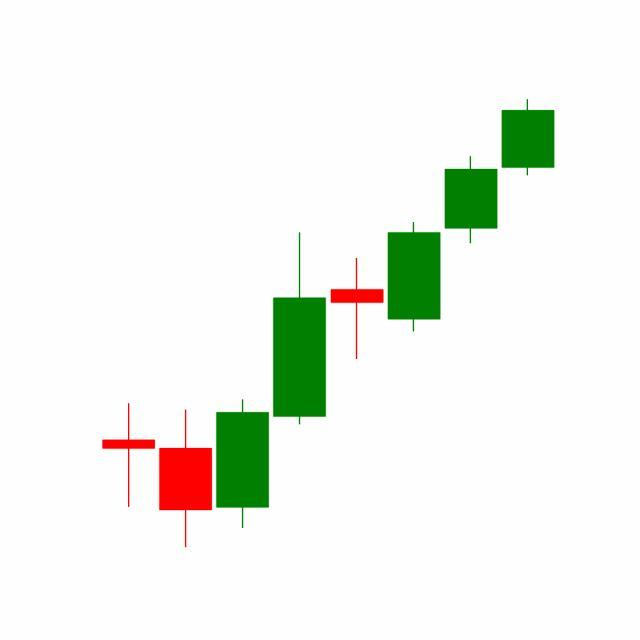Three Outside Up-Down: (328, 154, 500, 362)
